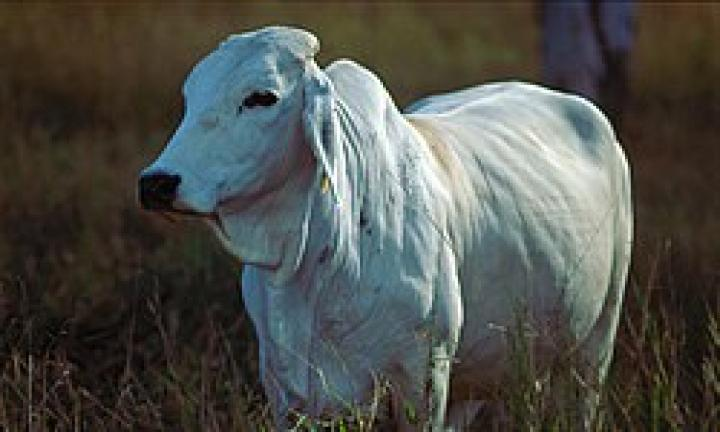Brahman: (138, 27, 631, 424)
